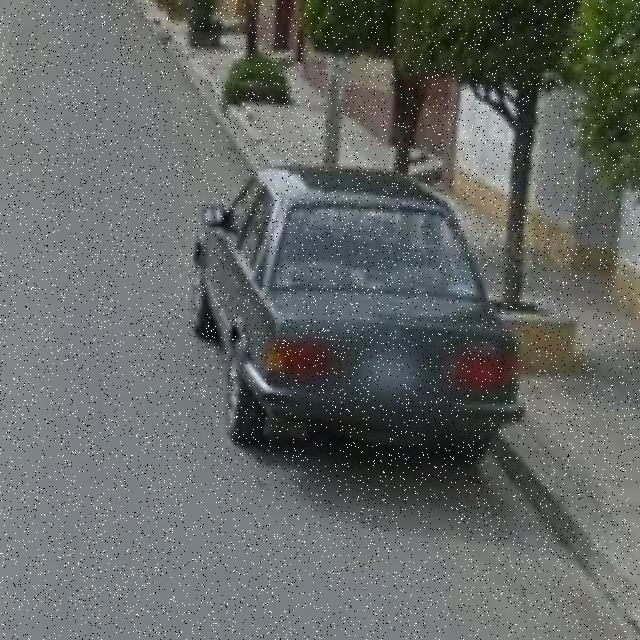cars: (199, 150, 529, 482)
